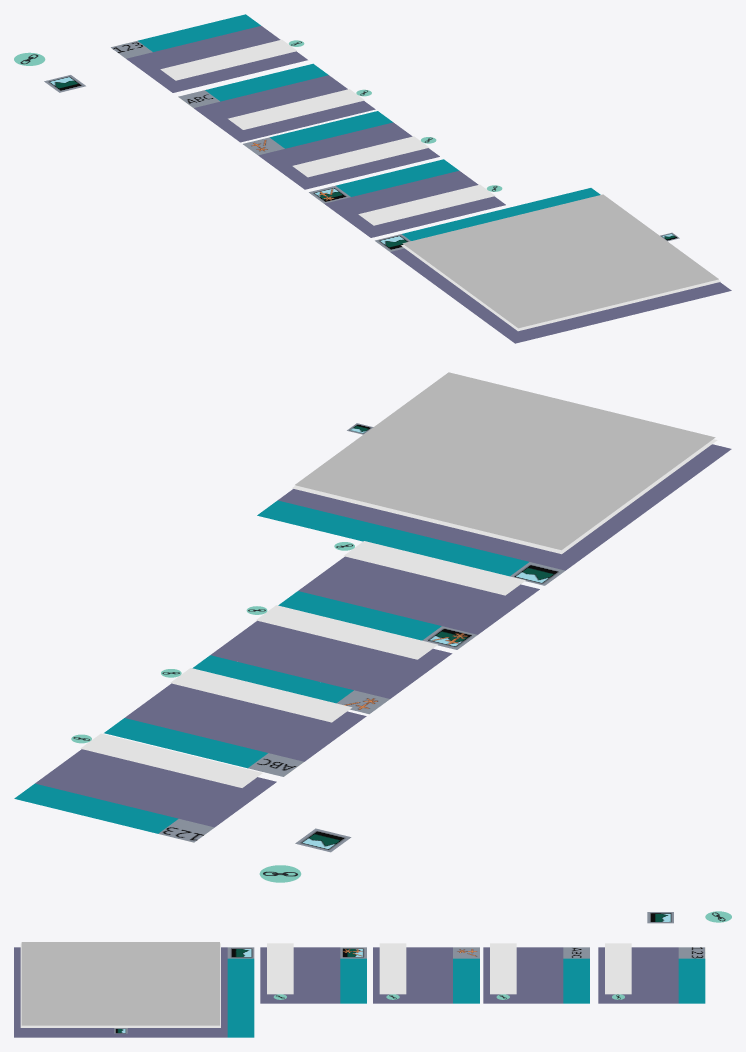
3 views of the same model, one above another, from view 1: azimuth 30°, elevation 25°; view 2: azimuth 150°, elevation 25°; view 3: azimuth 270°, elevation 25° (orthographic). The views are drawn at different scales.
Visible parts, largest first — view 1: Plane, Obj_005.004_CUpath8787, Obj_002.006_CUpath4484, Obj_003.006_CUpath6753, Obj_001.004_CUpath4914, Obj_004.006_CUpath8043, Obj_003.005_CUpath6747, Obj_002.005_CUpath4478, Obj_004.003_CUpath8039, Obj_001.005_CUpath4926, Obj_005.003_CUpath8623, Obj_002.001_CUpath4458 (+12 smaller); view 2: Plane, Obj_001.004_CUpath4914, Obj_003.006_CUpath6753, Obj_002.006_CUpath4484, Obj_004.006_CUpath8043, Obj_005.003_CUpath8623, Obj_005_CUpath8872, Obj_004.003_CUpath8039, Obj_002.005_CUpath4478, Obj_003.005_CUpath6747, Obj_001.005_CUpath4926, Obj_005.004_CUpath8787 (+13 smaller); view 3: Plane, Obj_005_CUpath8872, Obj_005.003_CUpath8623, Obj_002.006_CUpath4484, Obj_004.006_CUpath8043, Obj_001.004_CUpath4914, Obj_003.006_CUpath6753, Obj_001.003_CUpath4904, Obj_003.001_CUpath6713, Obj_004.002_CUpath8031, Obj_002.001_CUpath4458, Obj_001.005_CUpath4926 (+20 smaller).
Part boxes in pixels (box(x1,y1,x2,y2)): Plane: box(402, 194, 718, 328); Obj_005.004_CUpath8787: box(390, 252, 731, 343); Obj_002.006_CUpath4484: box(194, 75, 374, 109); Obj_003.006_CUpath6753: box(259, 122, 439, 156); Obj_001.004_CUpath4914: box(127, 25, 307, 59); Obj_004.006_CUpath8043: box(325, 170, 505, 204); Obj_003.005_CUpath6747: box(258, 155, 439, 189); Obj_002.005_CUpath4478: box(194, 108, 375, 142); Obj_004.003_CUpath8039: box(324, 203, 505, 237); Obj_001.005_CUpath4926: box(126, 58, 307, 92); Obj_005.003_CUpath8623: box(402, 188, 600, 240); Obj_002.001_CUpath4458: box(205, 63, 328, 101); Plane: box(295, 372, 715, 550); Obj_001.004_CUpath4914: box(35, 749, 214, 827); Obj_003.006_CUpath6753: box(210, 620, 389, 698); Obj_002.006_CUpath4484: box(125, 683, 303, 761); Obj_004.006_CUpath8043: box(298, 556, 477, 634); Obj_005.003_CUpath8623: box(257, 500, 528, 576); Obj_005_CUpath8872: box(278, 489, 565, 570); Obj_004.003_CUpath8039: box(389, 567, 539, 634); Obj_002.005_CUpath4478: box(216, 694, 366, 761); Obj_003.005_CUpath6747: box(302, 631, 452, 698); Obj_001.005_CUpath4926: box(126, 760, 276, 827); Obj_005.004_CUpath8787: box(554, 444, 731, 570); Plane: box(21, 942, 219, 1025); Obj_005_CUpath8872: box(14, 947, 227, 1037); Obj_005.003_CUpath8623: box(227, 958, 254, 1037); Obj_002.006_CUpath4484: box(484, 947, 563, 1003); Obj_004.006_CUpath8043: box(261, 948, 340, 1003); Obj_001.004_CUpath4914: box(599, 947, 678, 1003); Obj_003.006_CUpath6753: box(373, 947, 452, 1003); Obj_001.003_CUpath4904: box(678, 958, 705, 1003); Obj_003.001_CUpath6713: box(453, 958, 479, 1003); Obj_004.002_CUpath8031: box(340, 958, 366, 1003); Obj_002.001_CUpath4458: box(563, 958, 589, 1003); Obj_001.005_CUpath4926: box(598, 947, 677, 1003).
Bounding box in the file's own units: 0.4132 × 0.0129 × 0.9707.
